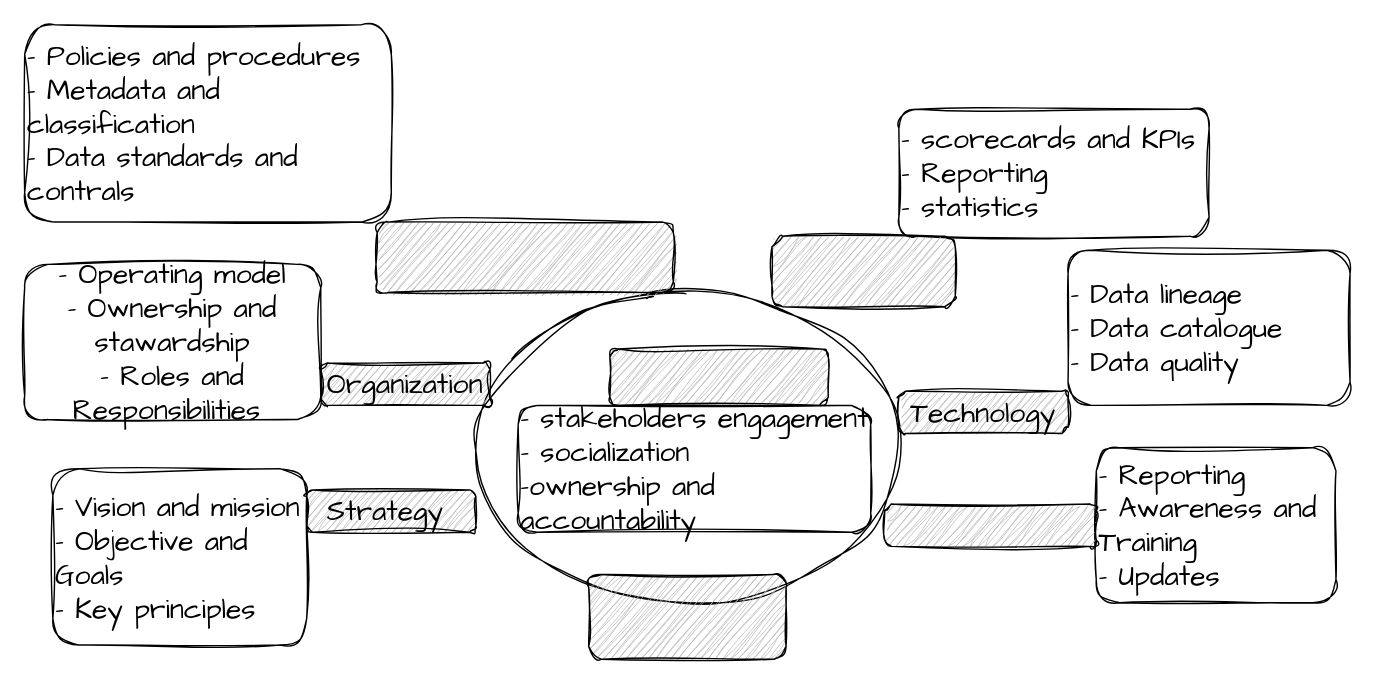
This 1375x684 diagram has some shape labels left out. Each missing label, with the box of its shape:
change management: (608, 348, 828, 405)
Communication: (883, 503, 1096, 546)
Data Govrnance: (587, 573, 786, 659)
Measure and monitor: (771, 235, 955, 307)
Policies, Standards and processes: (376, 221, 673, 293)
